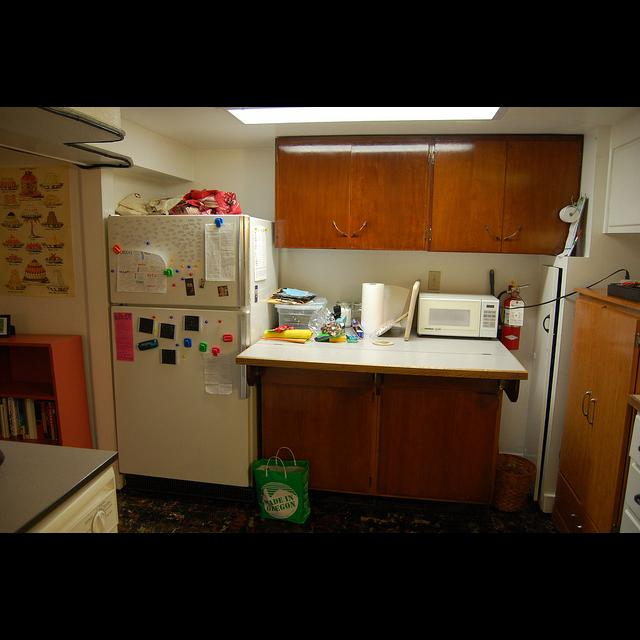Microwave: (416, 292, 500, 340)
Refrigerator: (108, 216, 277, 501)
